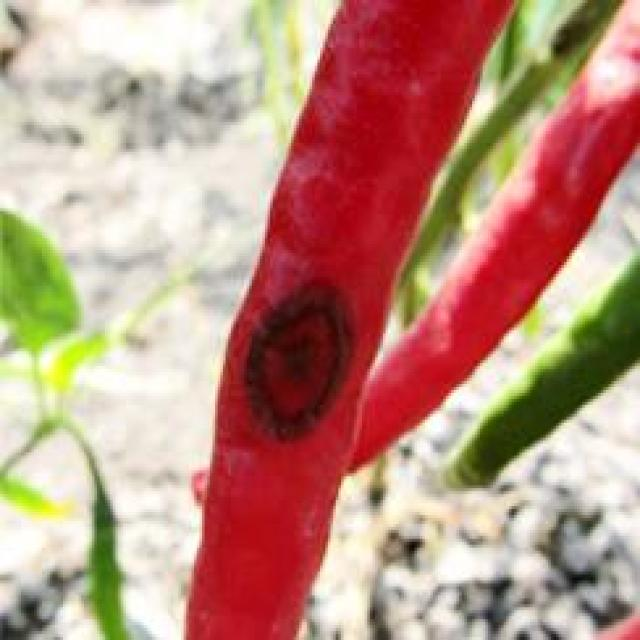Moko: (167, 256, 390, 462)
